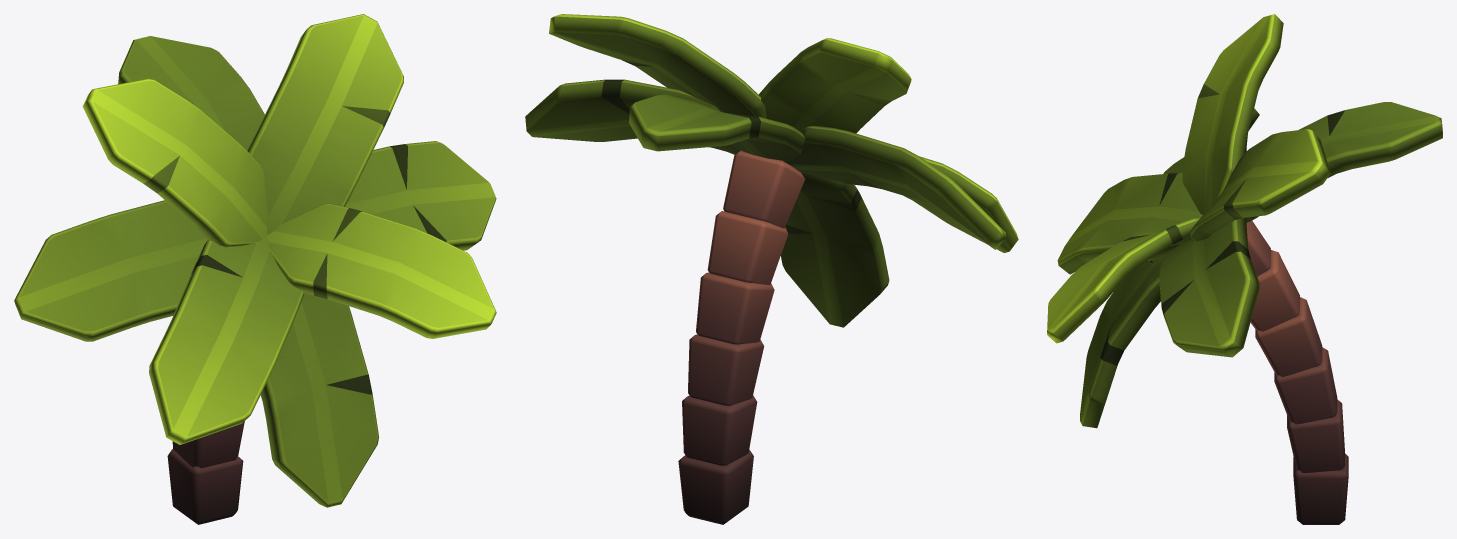
Rendered from palm_tree_2.fbx.
3 renders of one model, left to right at view 1: azimuth 30°, elevation 25°; view 2: azimuth 150°, elevation 25°; view 3: azimuth 270°, elevation 25°, orthographic. The views are drawn at different scales.
Visible parts, largest first — view 1: palm_tree_2; view 2: palm_tree_2; view 3: palm_tree_2.
Part boxes in pixels (x1,y1,x2,y2): palm_tree_2: (14,14,496,524); palm_tree_2: (525,14,1018,524); palm_tree_2: (1047,14,1442,524).
Bounding box in the file's own units: 679 × 649 × 528.
